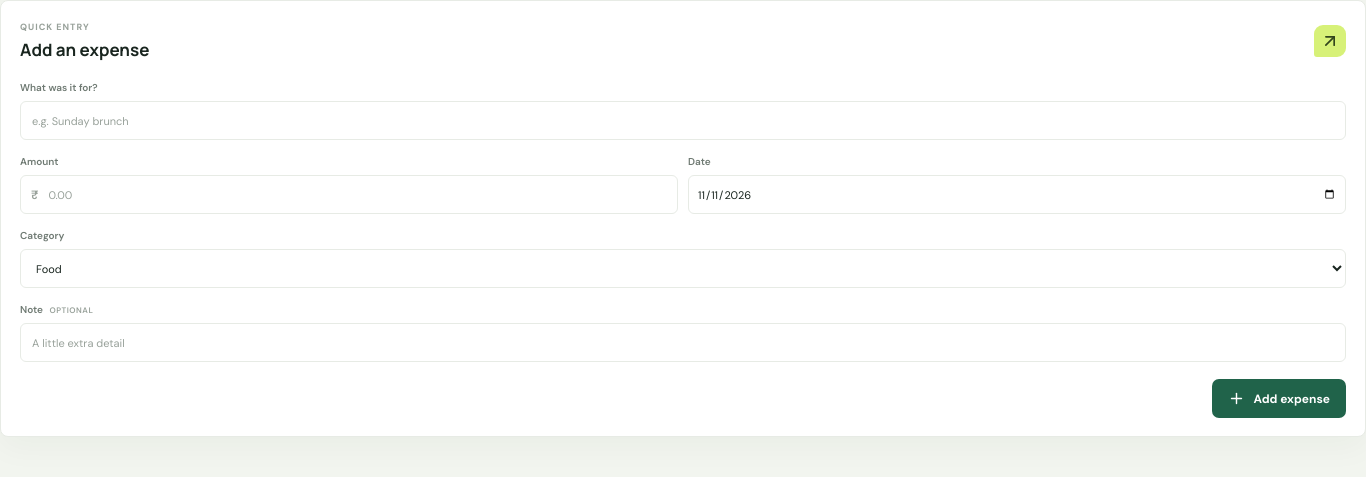
ExpenseForm › rejects amount -5
In the field labelled "What was it for?": (683, 120) [20,101,1346,140], type "Coffee"
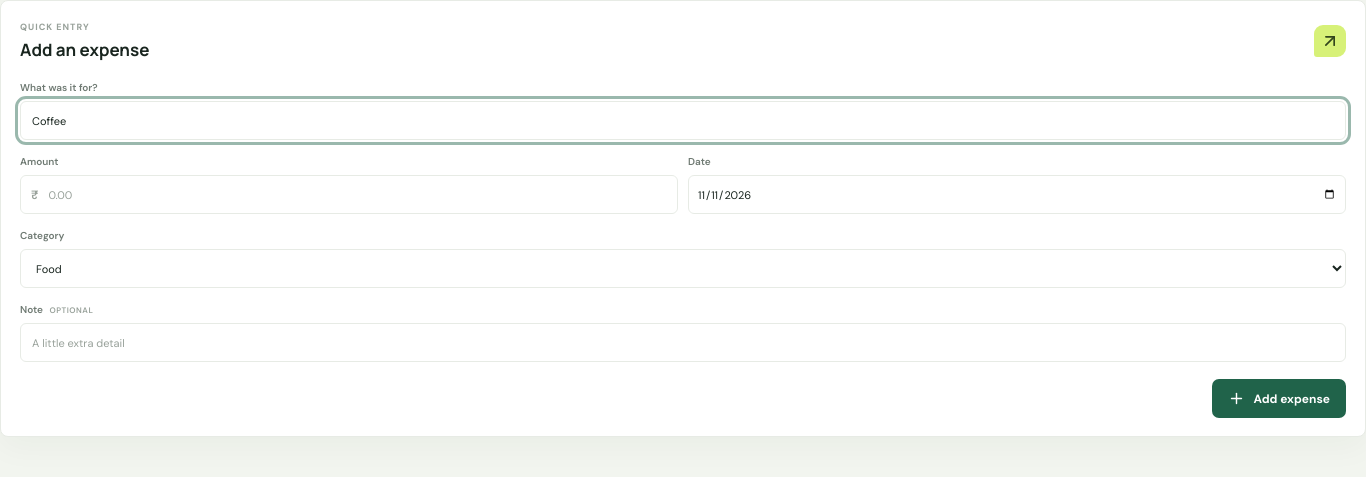
In the field with placeholder "0.00": (354, 194) [40,177,667,212], type "-5"
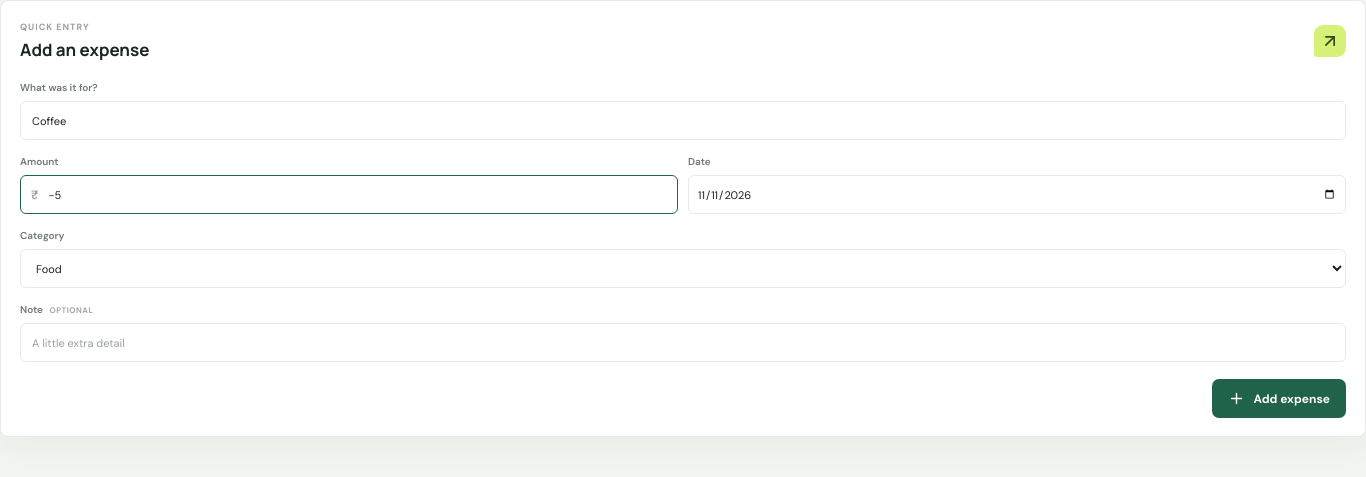
Click the button "Add expense": (1279, 398) [1212,379,1346,418]
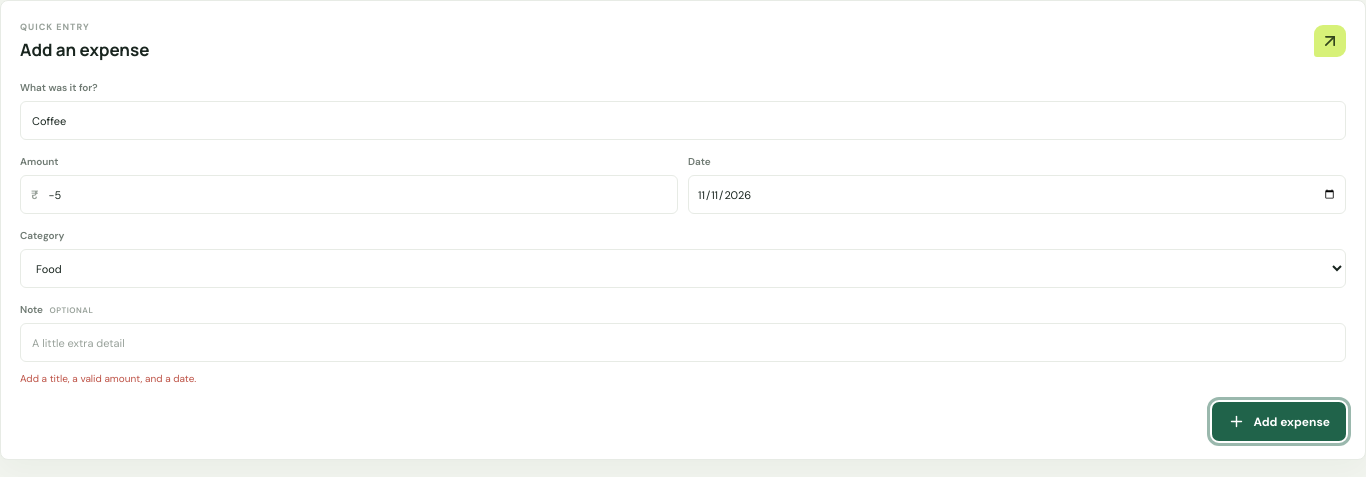
Expected: the message "Add a title, a valid amount, and a date." is shown, [20,372,196,385]
